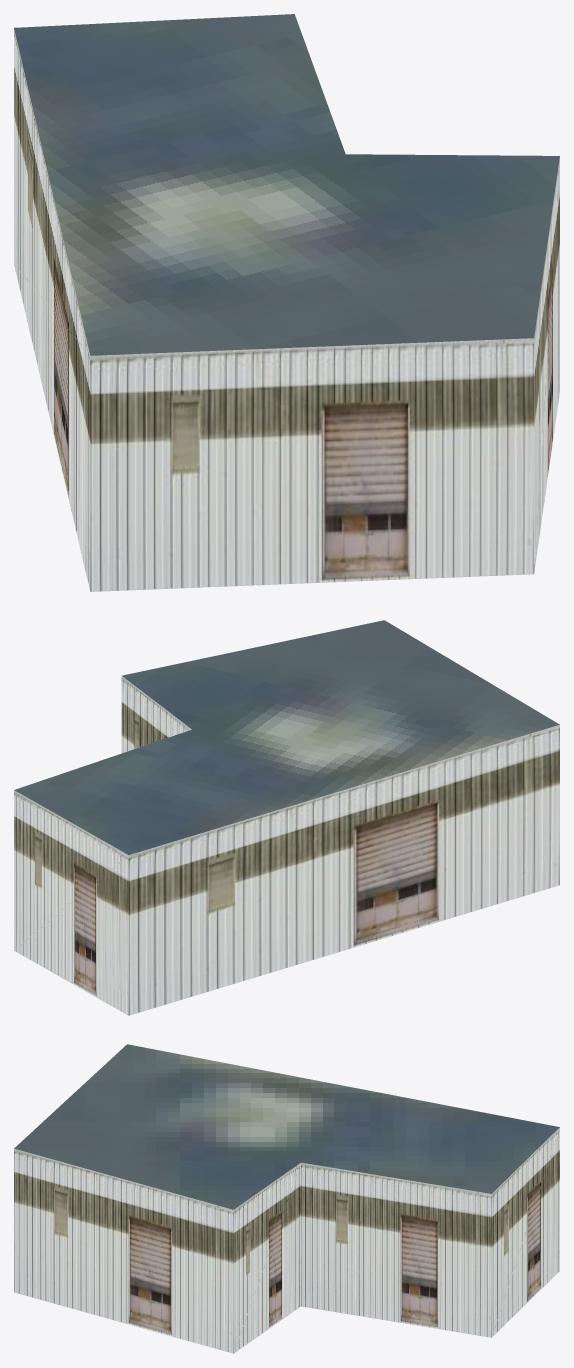
Rendered from E_1SGN74PBDJ.dae.
3 renders of one model, top to bottom at view 1: azimuth 30°, elevation 25°; view 2: azimuth 150°, elevation 25°; view 3: azimuth 270°, elevation 25°, orthographic. The views are drawn at different scales.
Parts seen in each view (by area): view 1: SketchUp (×2); view 2: SketchUp (×2); view 3: SketchUp (×2).
Part boxes in pixels (x1,y1,x2,y2): SketchUp (×2): (14,14,559,591); SketchUp (×2): (14,620,559,1015); SketchUp (×2): (14,1044,559,1353).
Size of what is drawn, in the model's own units: 321 by 447 by 130.
Materials: 2 (2 with a texture image).
